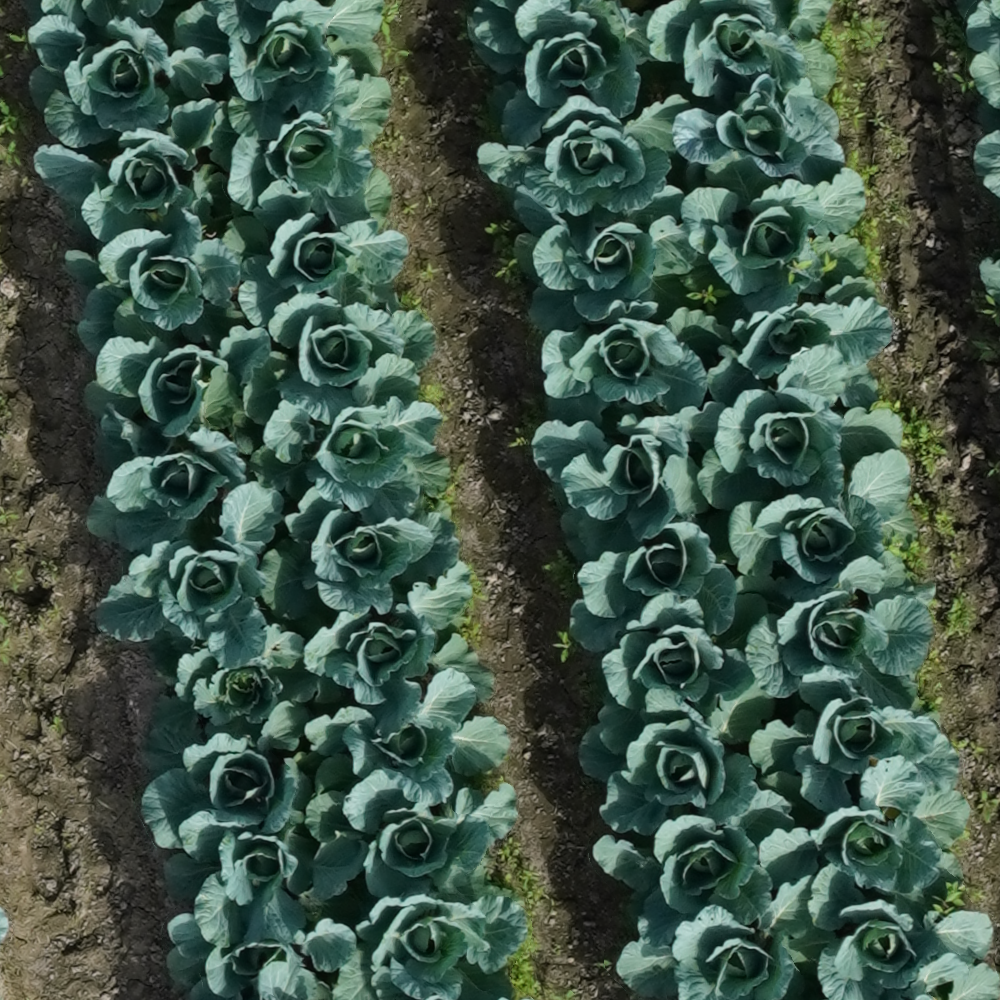Cabbage: (243, 277, 440, 464), (681, 345, 903, 508), (763, 756, 970, 930), (97, 483, 282, 671), (305, 557, 495, 740), (249, 354, 452, 525), (573, 455, 738, 651), (592, 784, 795, 943), (86, 367, 255, 550), (749, 666, 960, 811), (307, 761, 520, 904), (34, 97, 225, 256), (681, 150, 866, 312), (597, 590, 775, 758), (211, 58, 391, 223), (175, 0, 385, 141), (305, 670, 512, 808), (227, 171, 410, 327), (747, 562, 938, 710), (616, 875, 836, 1000), (260, 487, 462, 622), (516, 187, 699, 336), (579, 687, 759, 837), (475, 94, 690, 219), (470, 0, 654, 144), (28, 16, 228, 147), (84, 300, 272, 437), (727, 450, 914, 587), (142, 702, 312, 852), (709, 274, 893, 410), (65, 229, 247, 363), (540, 302, 732, 426), (534, 410, 693, 559), (150, 624, 320, 753), (166, 811, 319, 950), (333, 894, 525, 1000), (673, 75, 844, 185), (646, 0, 834, 99), (817, 902, 997, 1000), (168, 913, 354, 1000)
